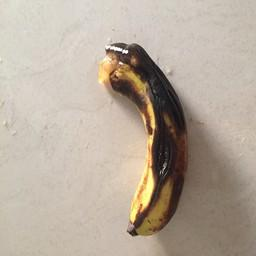Bad_banana: (100, 34, 190, 236)
